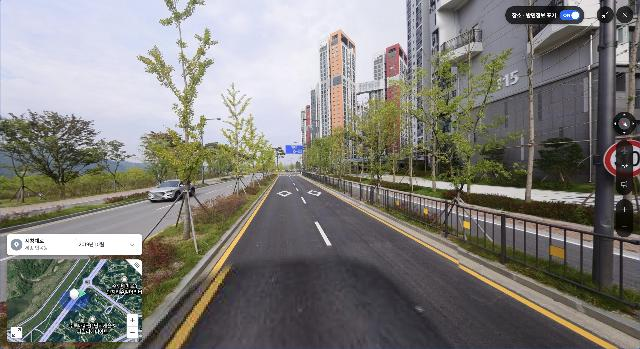other: (136, 0, 220, 239), (442, 46, 516, 204), (401, 46, 468, 194), (0, 108, 102, 205), (349, 97, 401, 192), (220, 82, 256, 197), (534, 137, 585, 193), (243, 112, 266, 188), (314, 134, 342, 179), (255, 135, 271, 182)
